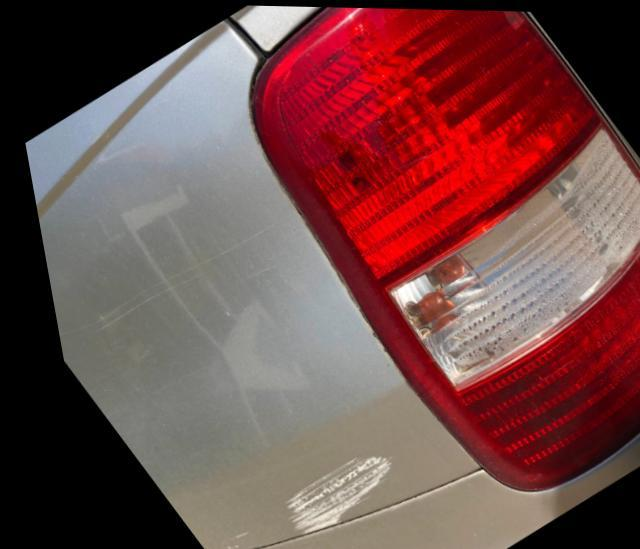scratch: (261, 453, 376, 537)
